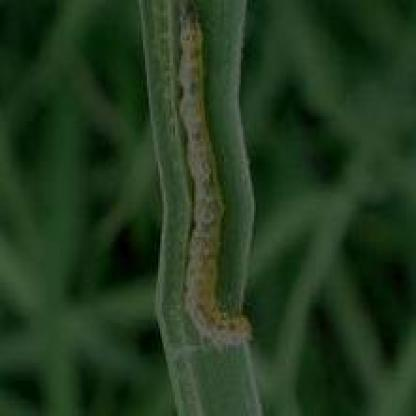leaf-folder: (151, 6, 274, 362)
